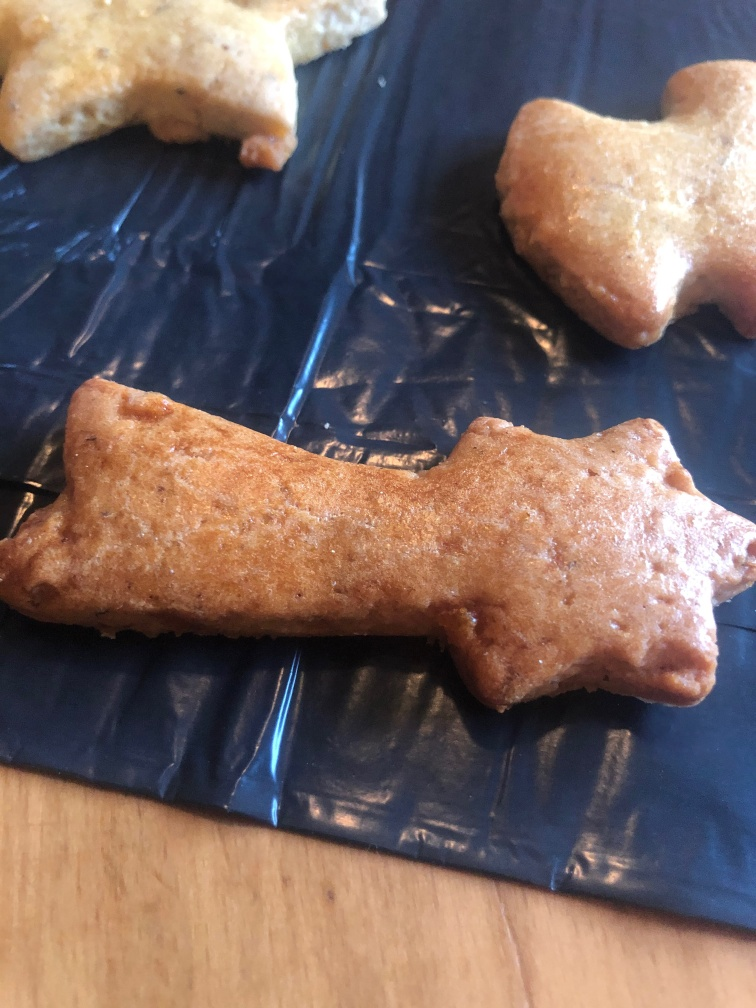shooting star: (10, 367, 756, 734)
star: (1, 1, 391, 177)
